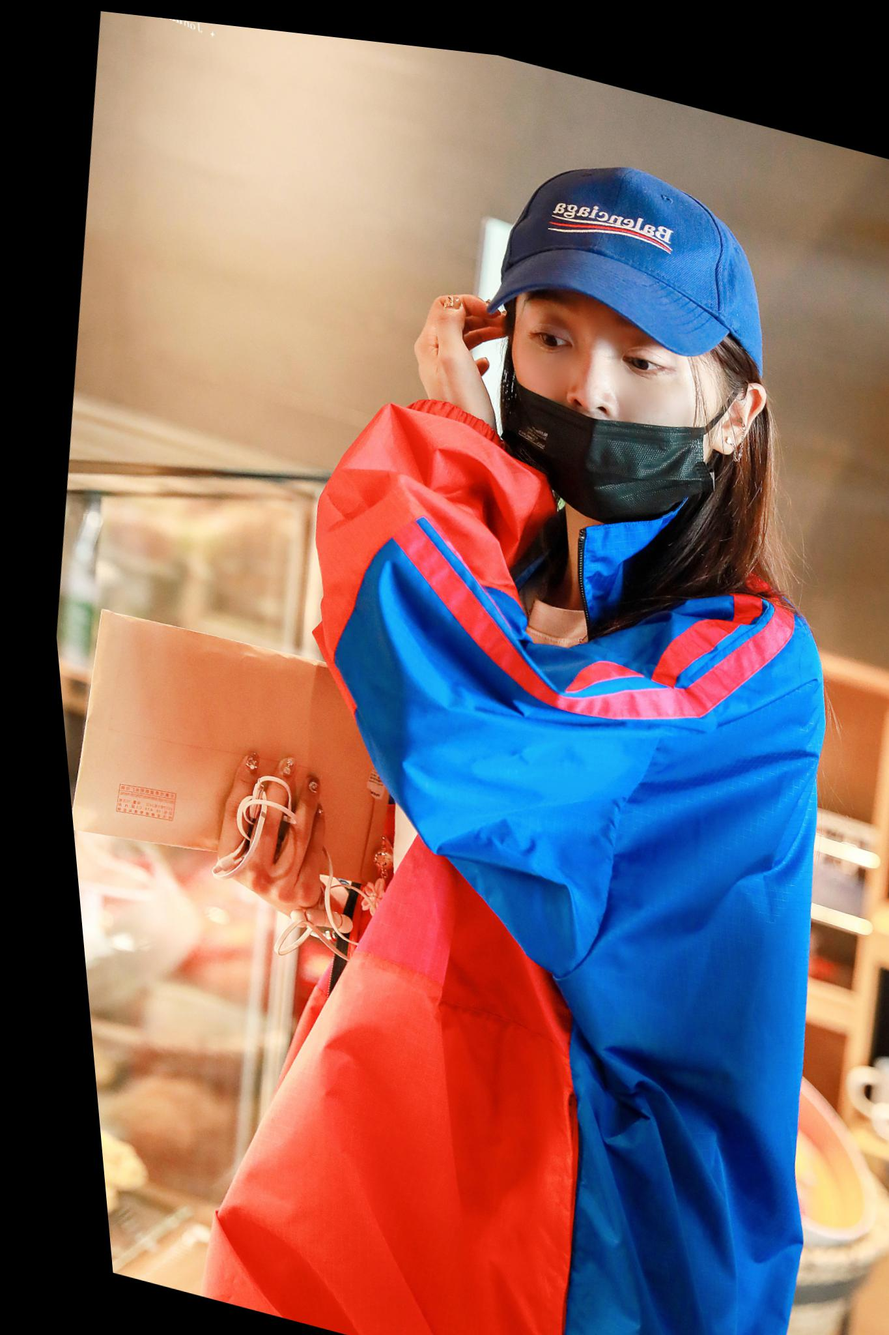WRONG: (465, 239, 736, 540)
